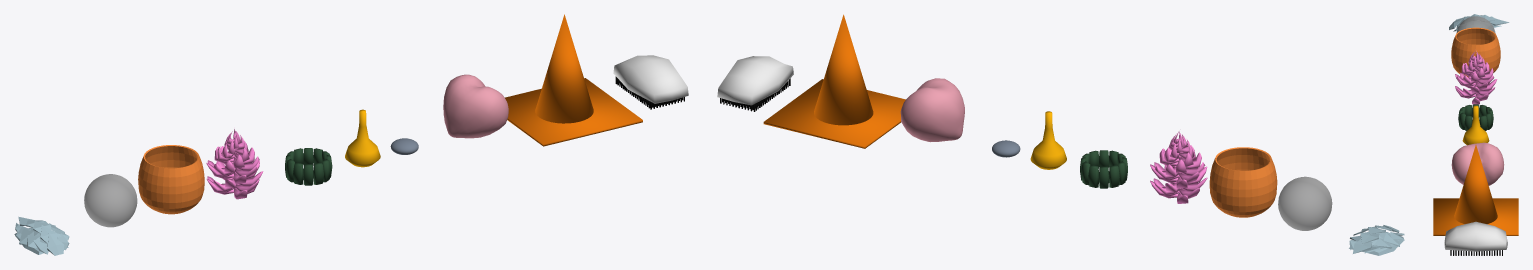
The model's file is objects blend.fbx.
3 views of the same model, side by side, from view 1: azimuth 30°, elevation 25°; view 2: azimuth 150°, elevation 25°; view 3: azimuth 270°, elevation 25° (orthographic). The views are drawn at different scales.
Visible parts, largest first — view 1: Plane, Sphere.002, Sphere.003, Cube.003, Cube.002, Sphere, Cube, Plane.001, Cylinder, Sphere.001; view 2: Plane, Sphere.002, Sphere.003, Cube.003, Cube.002, Sphere, Cube, Plane.001, Cylinder, Sphere.001; view 3: Plane, Cube.003, Sphere.002, Sphere.003, Cube.002, Cube, Plane.001, Cylinder, Sphere.
Part boxes in pixels (x1,y1,x2,y2): Plane: (505,14,642,146); Sphere.002: (138,145,204,214); Sphere.003: (443,74,508,138); Cube.003: (613,55,688,109); Cube.002: (206,129,263,199); Sphere: (84,174,137,227); Cube: (285,148,332,185); Plane.001: (14,216,69,255); Cylinder: (345,109,380,167); Sphere.001: (390,138,418,154); Plane: (763,14,905,148); Sphere.002: (1209,147,1277,217); Sphere.003: (900,78,964,142); Cube.003: (717,56,793,111); Cube.002: (1150,131,1207,203); Sphere: (1278,176,1332,230); Cube: (1080,150,1127,188); Plane.001: (1349,225,1404,255); Cylinder: (1030,111,1066,169); Sphere.001: (992,140,1020,157); Plane: (1433,145,1518,235); Cube.003: (1444,221,1507,255); Sphere.002: (1451,27,1500,77); Sphere.003: (1451,142,1504,185); Cube.002: (1455,51,1497,104); Cube: (1458,104,1493,130); Plane.001: (1449,14,1509,31); Cylinder: (1462,105,1489,145); Sphere: (1456,16,1495,33).
Size of the model in its own units: 6725 by 996 by 1021.
